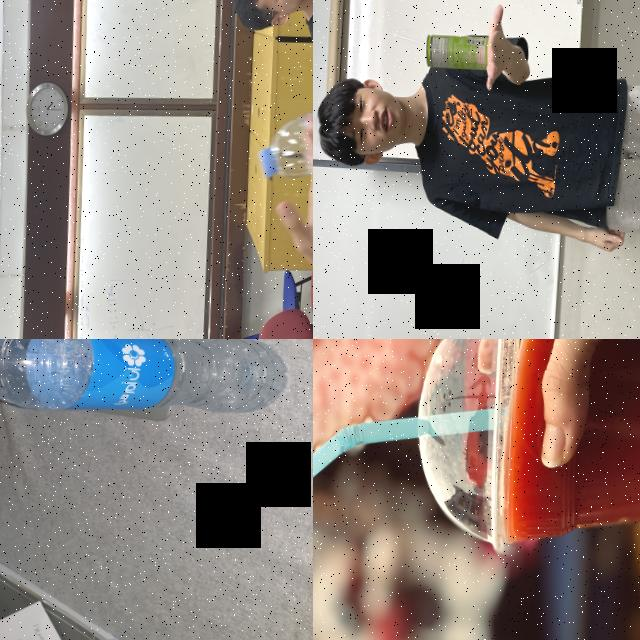bottle: (0, 339, 297, 425)
can: (424, 31, 488, 72)
cup: (409, 339, 640, 564)
